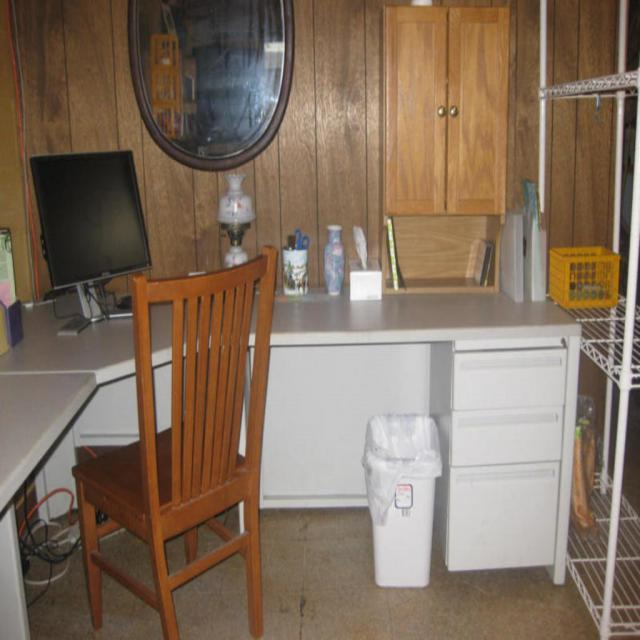chair: (71, 251, 274, 638)
desk: (24, 244, 606, 640)
tv: (30, 150, 150, 294)
